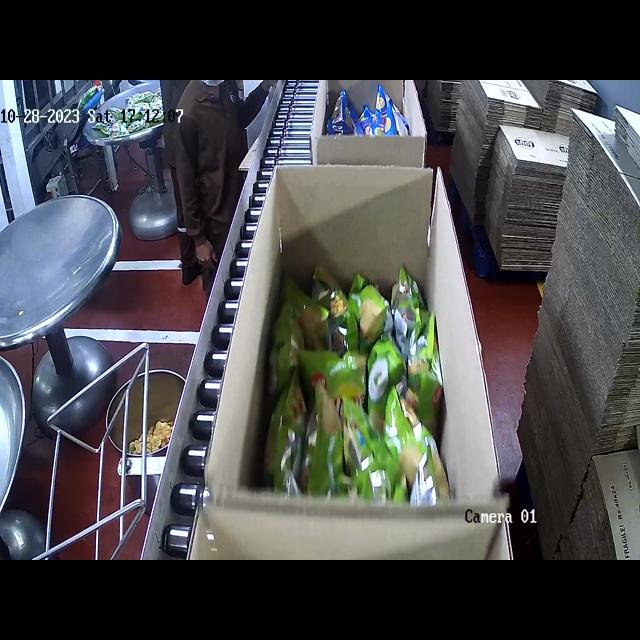paprika: (330, 91, 415, 137)
yogurt: (262, 261, 451, 507)
